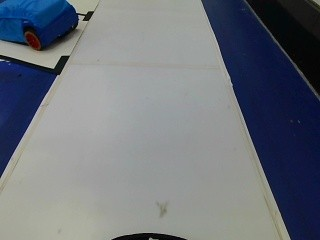car: (0, 0, 82, 53)
